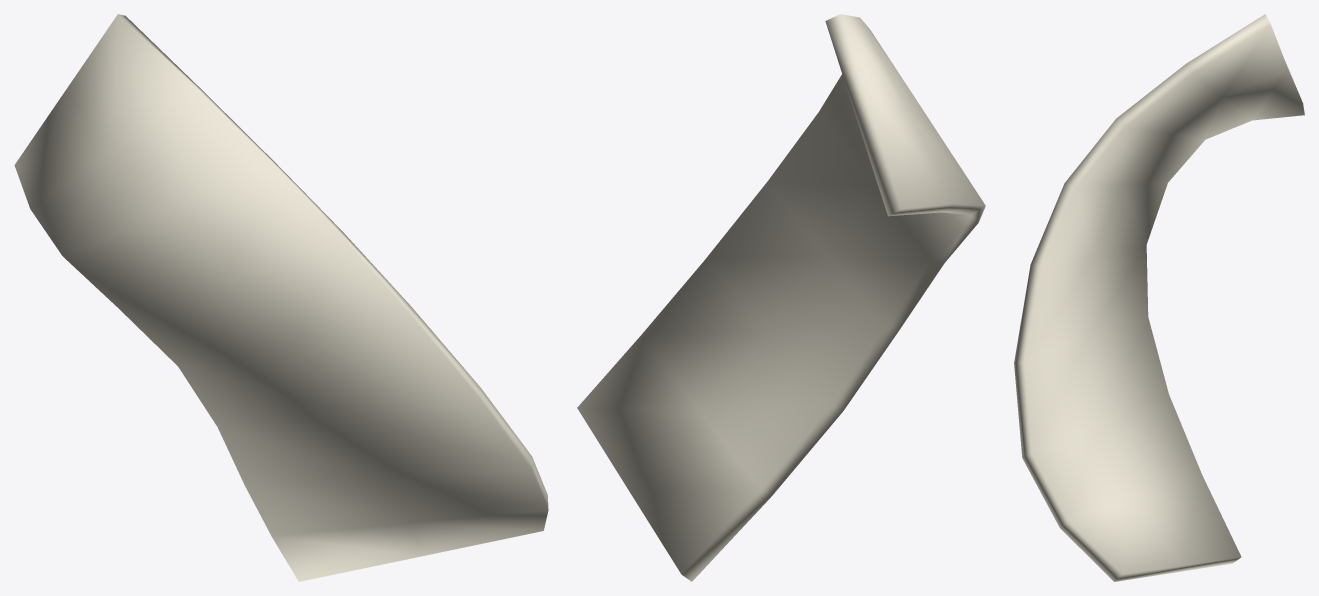
3 views of the same model, side by side, from view 1: azimuth 30°, elevation 25°; view 2: azimuth 150°, elevation 25°; view 3: azimuth 270°, elevation 25° (orthographic). The views are drawn at different scales.
Visible parts, largest first — view 1: ZA_3668be867da90913; view 2: ZA_3668be867da90913; view 3: ZA_3668be867da90913.
Part boxes in pixels (left/top/right/bottom): ZA_3668be867da90913: left=14, top=14, right=548, bottom=581; ZA_3668be867da90913: left=577, top=14, right=985, bottom=581; ZA_3668be867da90913: left=1014, top=14, right=1304, bottom=581.
Bounding box in the file's own units: 0.0153 × 0.0199 × 0.0108.
